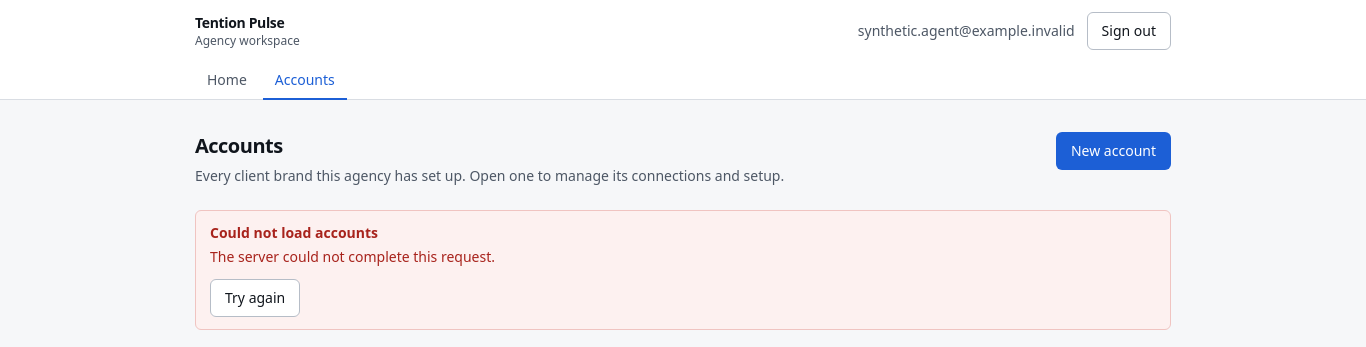
the account directory › shows a retryable error, not an empty directory, when the service fails
Expected: the heading "Accounts" is shown, [195,132,283,159]
Expected: the text "Could not load accounts" is shown, [210,223,378,242]
Click the button "Try again".
click(255, 298)  # box [210,279,300,317]
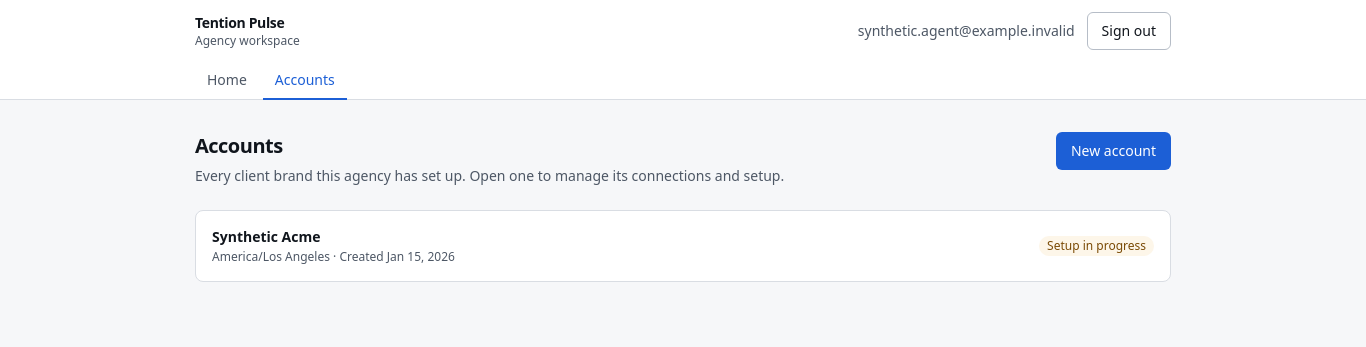
Expected: the text "Synthetic Acme" is shown, [212,227,320,246]
Expected: the text "Could not load accounts" is gone
